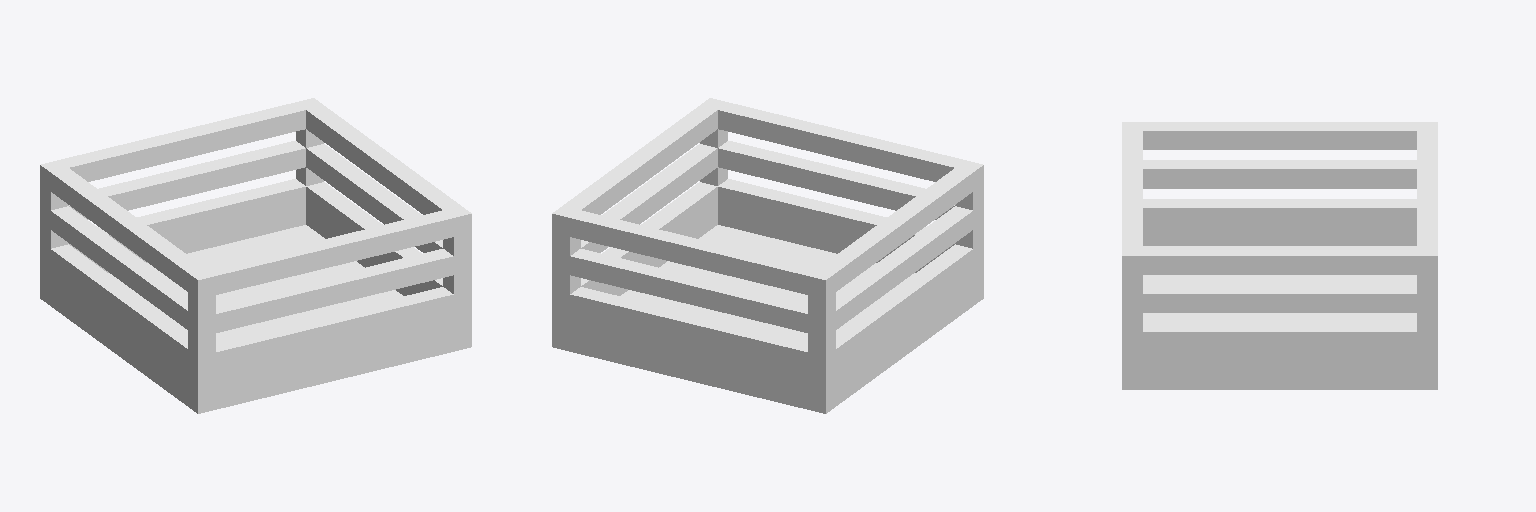
File: crop-slot.obj
3 renders of one model, left to right at view 1: azimuth 30°, elevation 25°; view 2: azimuth 150°, elevation 25°; view 3: azimuth 270°, elevation 25°, orthographic.
Parts seen in each view (by area): view 1: object 1; view 2: object 1; view 3: object 1.
Boxes of the visible parts, <box> form: object 1: <box>40,98,471,413</box>; object 1: <box>552,98,983,413</box>; object 1: <box>1122,122,1437,389</box>.
Bounding box in the file's own units: 1.5 × 0.7 × 1.5.